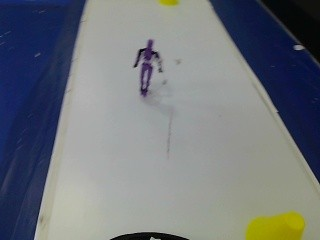pedestrian: (130, 33, 169, 97)
